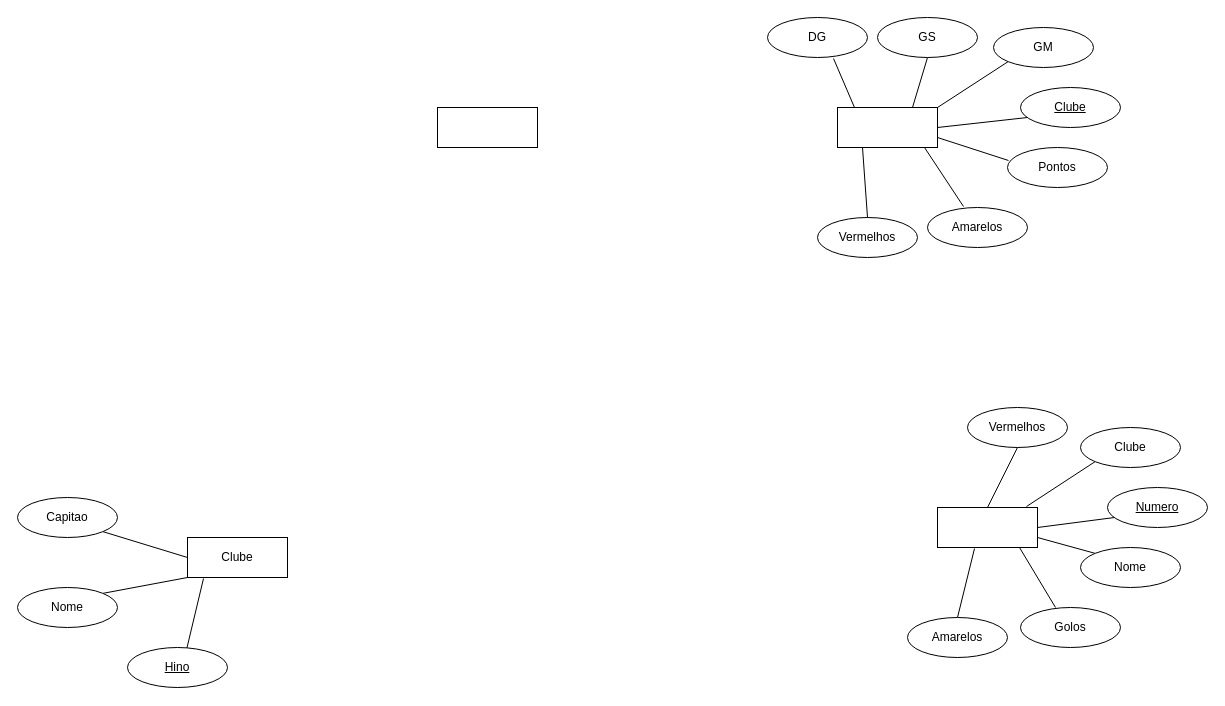
Some shapes in this 1225 by 706 pixel diagram are drawn without their labels. Each missing label, with the centre of its shape:
Jogadores: the point at 487,127
Jogos: the point at 987,527
Tabela: the point at 887,127
